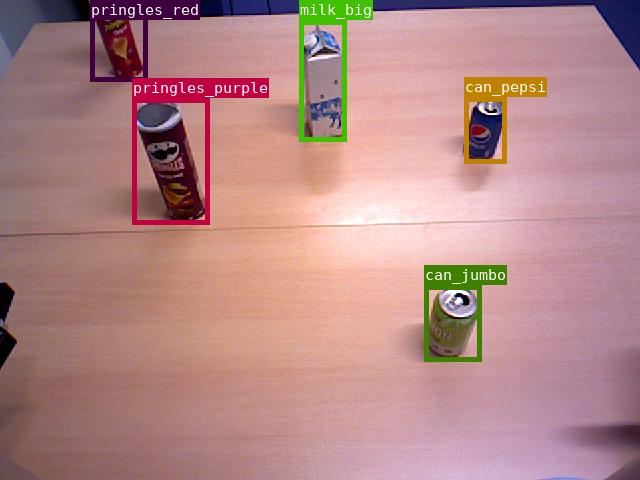can_jumbo: (424, 285, 481, 361)
can_pepsi: (464, 97, 506, 163)
milk_big: (299, 20, 346, 141)
pringles_purple: (132, 98, 209, 224)
pringles_red: (90, 0, 147, 81)
